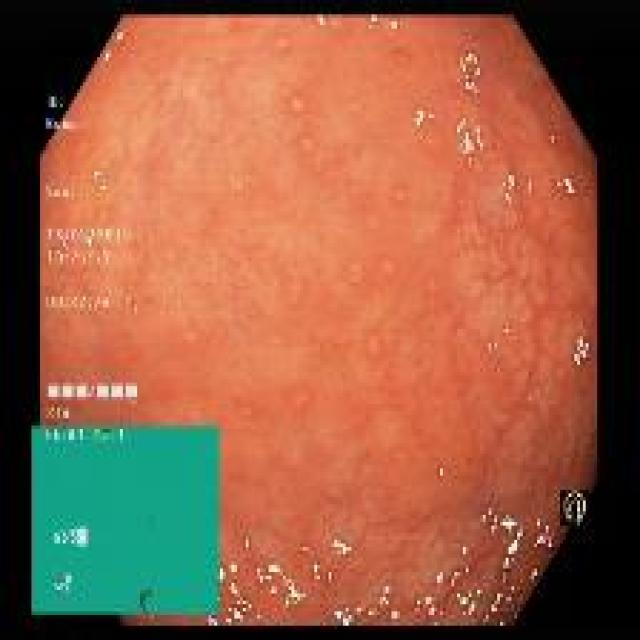ulcerative-colitis: (40, 14, 598, 624)
